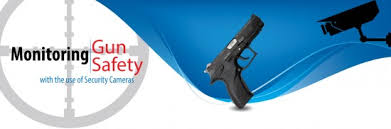gun: (204, 11, 268, 113)
